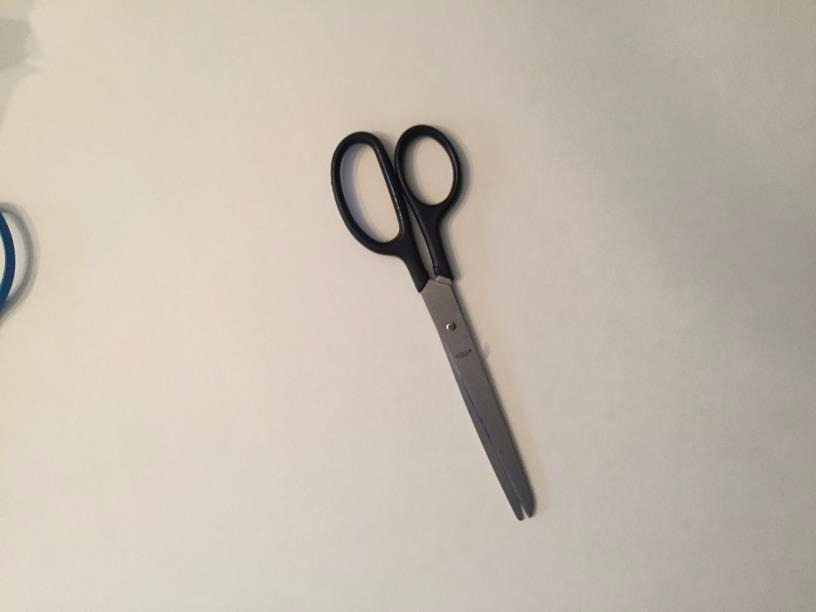scissor: (294, 99, 599, 542)
